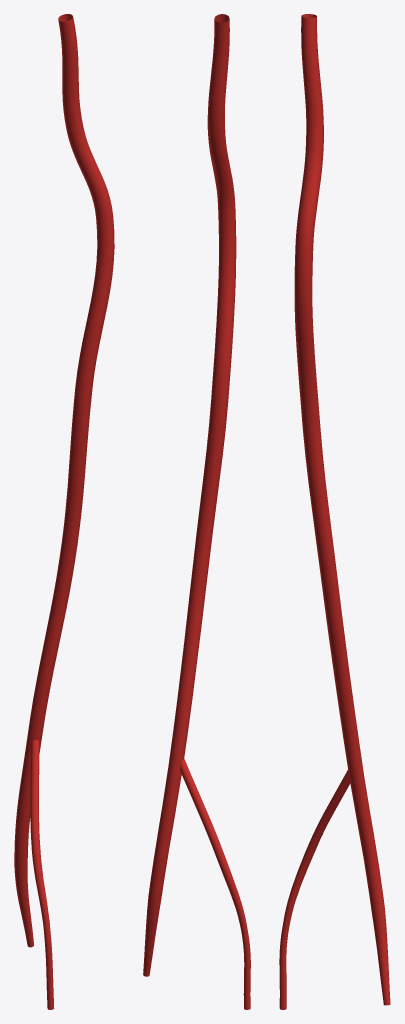
Rendered from circulatorio-superior-epigastric-artery-l.glb.
The picture shows the model from 3 angles, left to right: view 1: azimuth 90°, elevation 25°; view 2: azimuth 150°, elevation 25°; view 3: azimuth 330°, elevation 25°; orthographic projection. The views are drawn at different scales.
Visible parts, largest first — view 1: Superior epigastric artery.l; view 2: Superior epigastric artery.l; view 3: Superior epigastric artery.l.
Part boxes in pixels (left/top/right/bottom): Superior epigastric artery.l: left=14, top=14, right=114, bottom=1009; Superior epigastric artery.l: left=143, top=14, right=250, bottom=1009; Superior epigastric artery.l: left=279, top=14, right=390, bottom=1009.
Bounding box in the file's own units: 0.0169 × 0.1621 × 0.0151.
